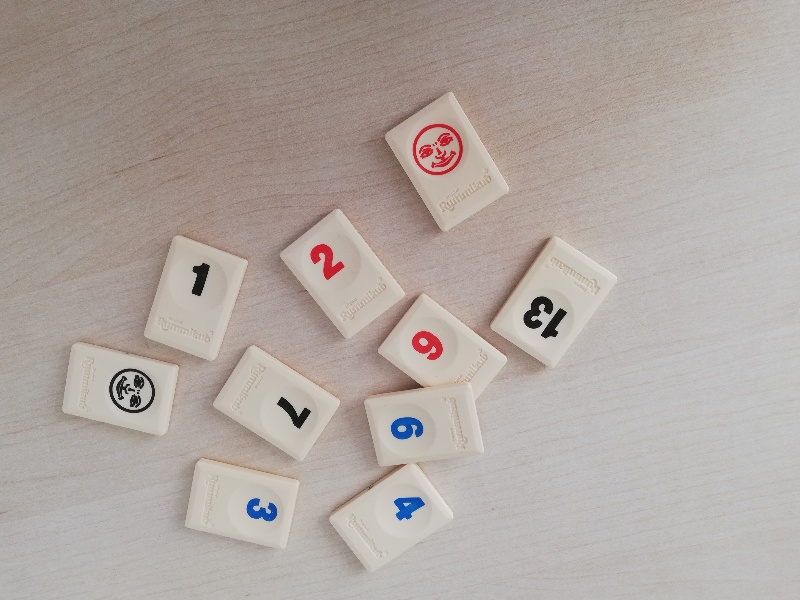1: (142, 234, 252, 365)
13: (488, 232, 623, 372)
2: (273, 204, 409, 348)
3: (183, 454, 301, 553)
4: (328, 463, 460, 581)
7: (208, 341, 342, 464)
9: (371, 289, 511, 408), (361, 379, 486, 469)
joker: (379, 85, 516, 241), (57, 339, 183, 443)
